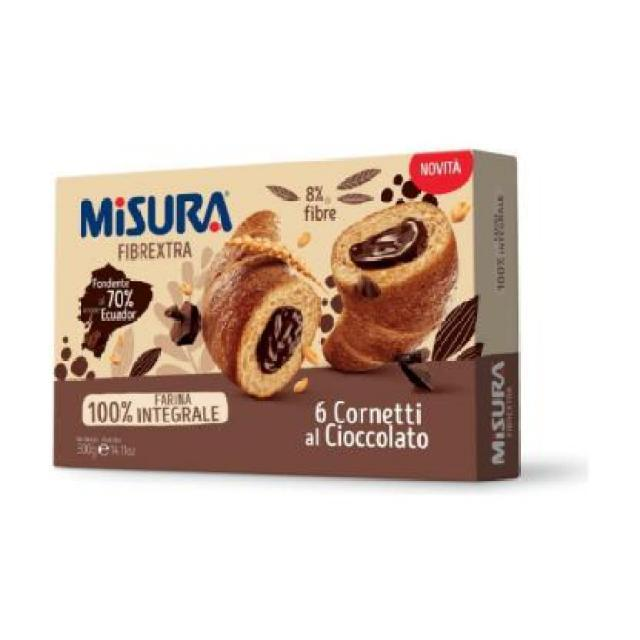Merendine: (52, 144, 530, 490)
